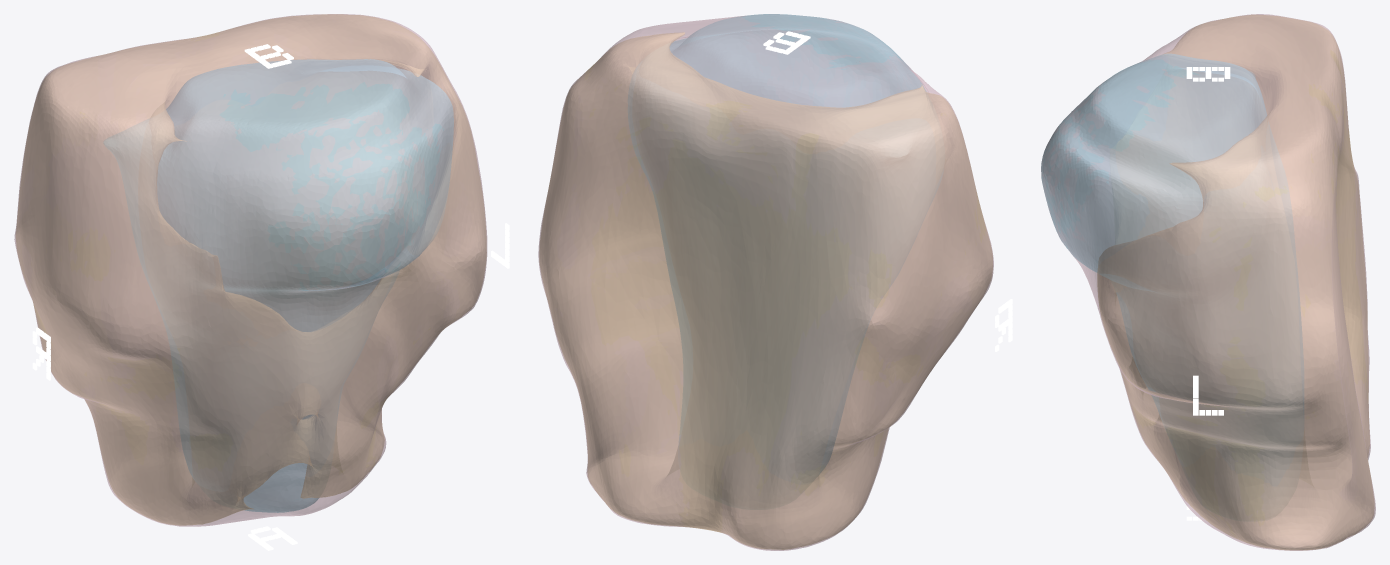
The picture shows the model from 3 angles, left to right: view 1: azimuth 30°, elevation 25°; view 2: azimuth 150°, elevation 25°; view 3: azimuth 270°, elevation 25°; orthographic projection. The views are drawn at different scales.
Parts seen in each view (by area): view 1: prostate_gland, peripheral_zone, transition_zone, pv_ar_marker_B; view 2: prostate_gland, peripheral_zone, transition_zone; view 3: prostate_gland, peripheral_zone, transition_zone, pv_ar_marker_B.
Boxes of the visible parts, x1,y1,x2,y2 form: prostate_gland: (14,14,487,526); peripheral_zone: (16,14,486,525); transition_zone: (103,59,453,512); pv_ar_marker_B: (244,44,293,68); prostate_gland: (538,14,993,550); peripheral_zone: (539,32,992,549); transition_zone: (628,14,943,476); prostate_gland: (1041,14,1375,550); peripheral_zone: (1097,15,1374,549); transition_zone: (1041,54,1303,430); pv_ar_marker_B: (1186,67,1230,81).
Size of the model in its own units: 0.0459 by 0.0461 by 0.0318.
